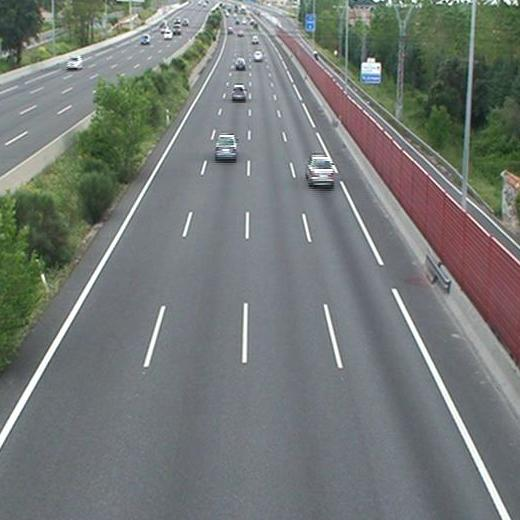car: (306, 155, 334, 185), (216, 136, 237, 158), (232, 85, 245, 99), (235, 58, 246, 70), (254, 50, 263, 60), (251, 35, 258, 44)
